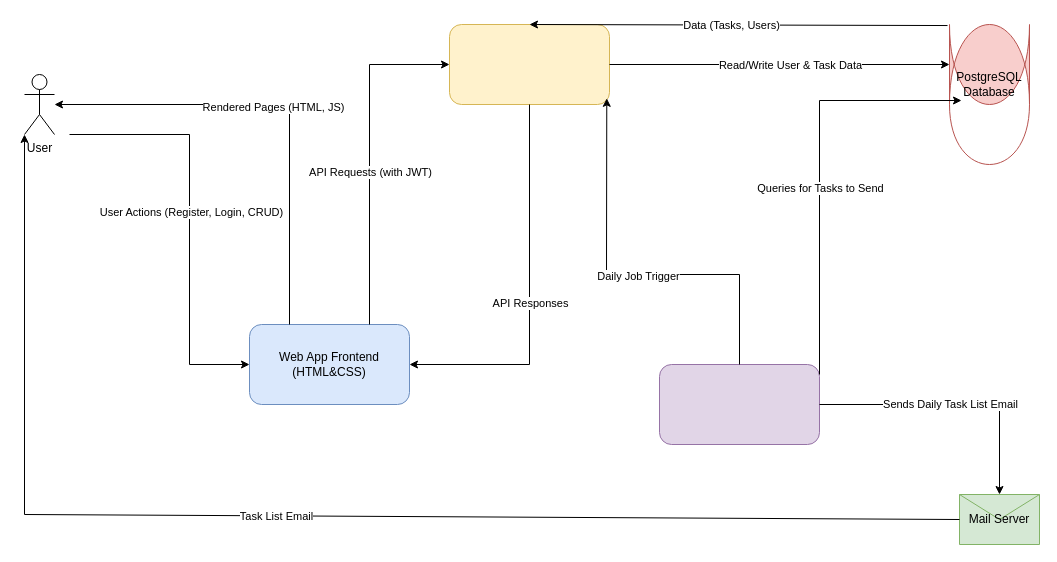
The diagram is 1057 pixels wide and 562 high, and some of its shapes have lost their labels. Here are the shapes that lost their labels. From the top down, the centre of each, then its label:
At point 529,64: "Flask Backend API".
At point 739,404: "Scheduler (APScheduler)".
